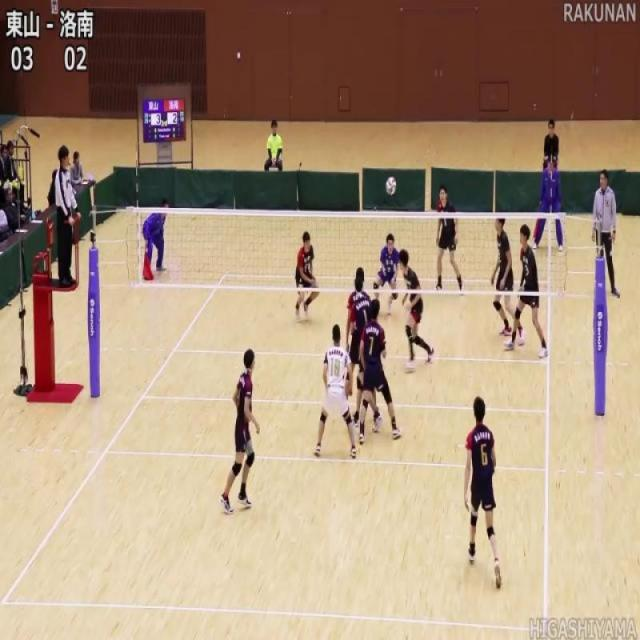volleyball: (384, 176, 398, 197)
